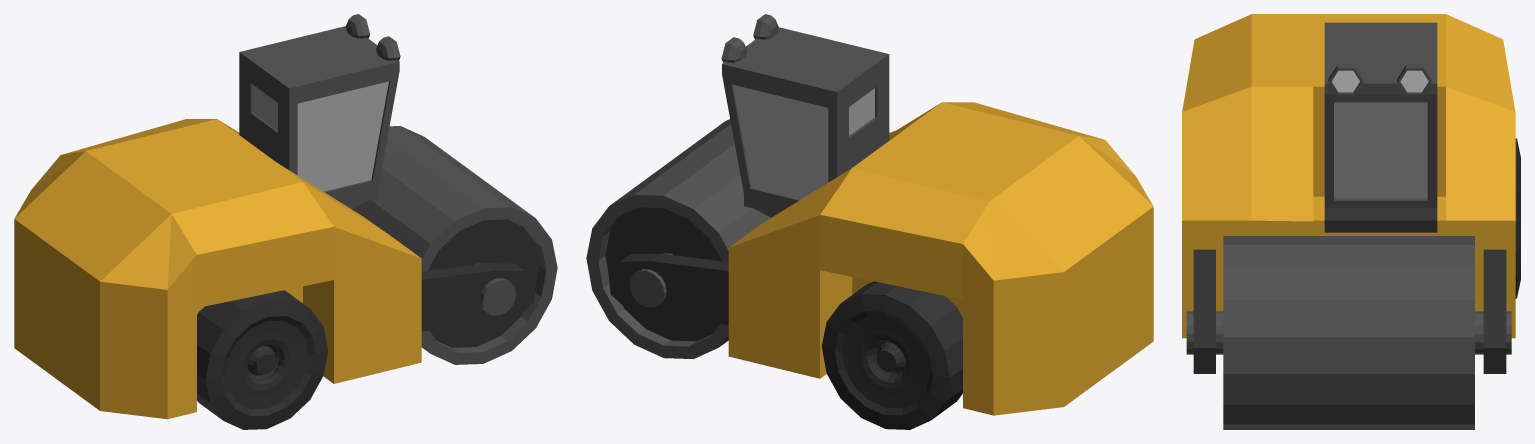
3 renders of one model, left to right at view 1: azimuth 30°, elevation 25°; view 2: azimuth 150°, elevation 25°; view 3: azimuth 270°, elevation 25°, orthographic. The views are drawn at different scales.
Parts seen in each view (by area): view 1: C-3, Cylinder.037, Cylinder.040, Cube.025; view 2: C-3, Cylinder.037, Cylinder.041, Cube.026; view 3: C-3, Cylinder.037, Cube.026, Cube.025, Cylinder.041.
Part boxes in pixels (x1,y1,x2,y2): C-3: [14, 14, 421, 419]; Cylinder.037: [352, 126, 557, 364]; Cylinder.040: [197, 290, 328, 429]; Cube.025: [421, 263, 535, 331]; C-3: [721, 14, 1153, 415]; Cylinder.037: [586, 119, 770, 359]; Cylinder.041: [821, 281, 962, 429]; Cube.026: [608, 253, 728, 324]; C-3: [1182, 14, 1515, 338]; Cylinder.037: [1186, 236, 1511, 429]; Cube.026: [1483, 249, 1506, 373]; Cube.025: [1193, 249, 1215, 373]; Cylinder.041: [1515, 138, 1520, 298].
Size of the model in its own units: 1743 by 1101 by 1016.
